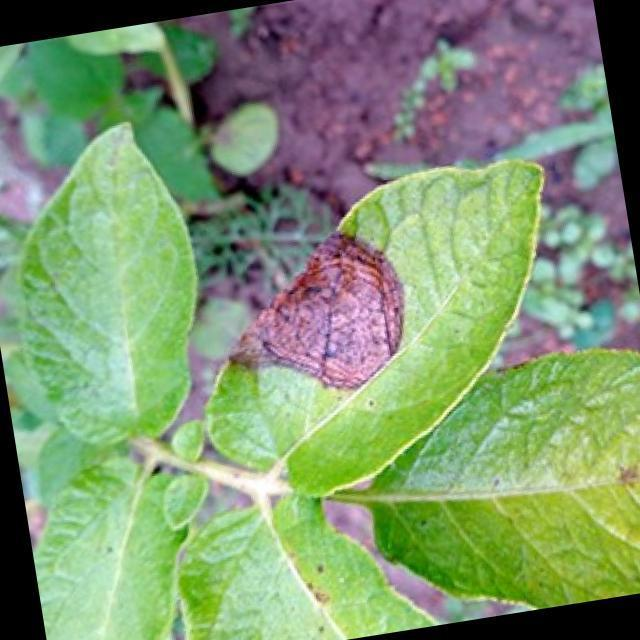Healthy Leaf: (0, 112, 215, 460)
